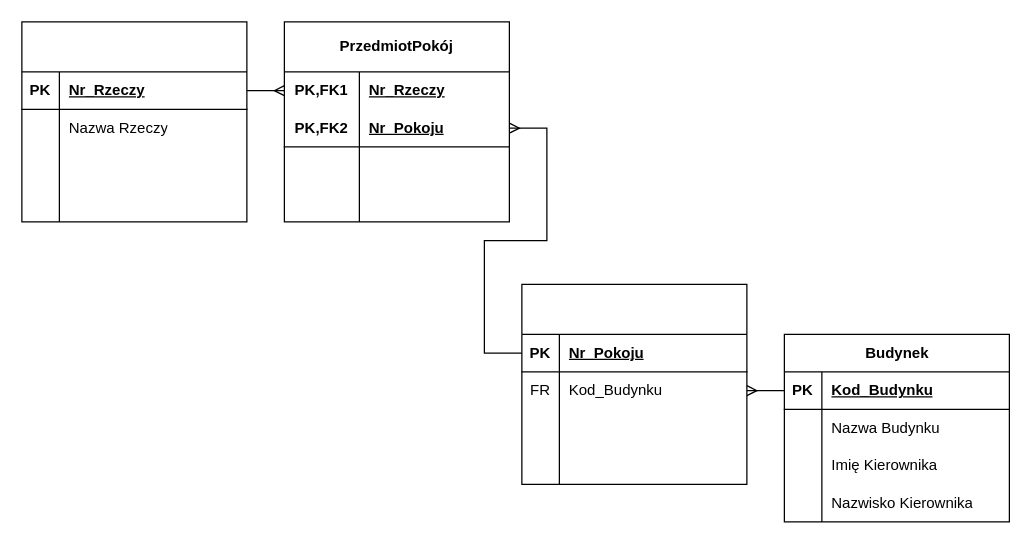
The diagram is 1031 pixels wide and 544 high, and some of its shapes have lost their labels. Each missing label, with the box of its shape:
Pokój: (521, 283, 747, 484)
Przedmiot: (21, 21, 247, 222)
